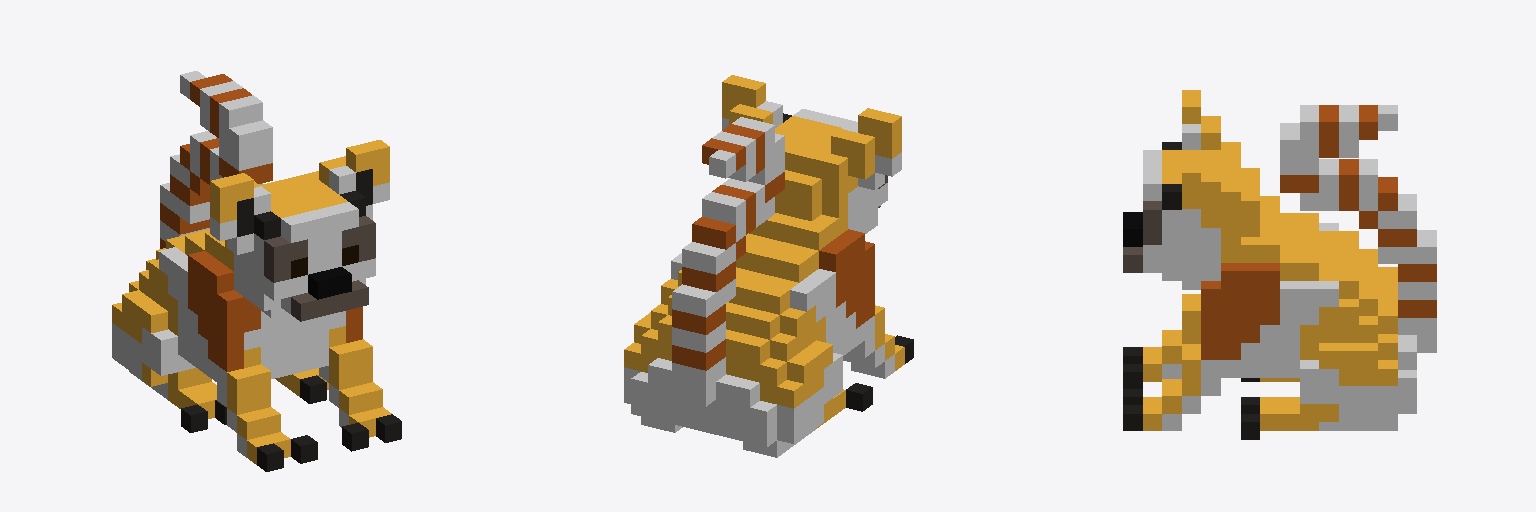
3 renders of one model, left to right at view 1: azimuth 30°, elevation 25°; view 2: azimuth 150°, elevation 25°; view 3: azimuth 270°, elevation 25°, orthographic.
Parts seen in each view (by area): view 1: object 1; view 2: object 1; view 3: object 1.
Boxes of the visible parts, <box> form: object 1: <box>112,71,401,471</box>; object 1: <box>624,75,913,457</box>; object 1: <box>1123,90,1436,439</box>.
Bounding box in the file's own units: 1 × 1.6 × 1.6.
1 materials, 1 textured.